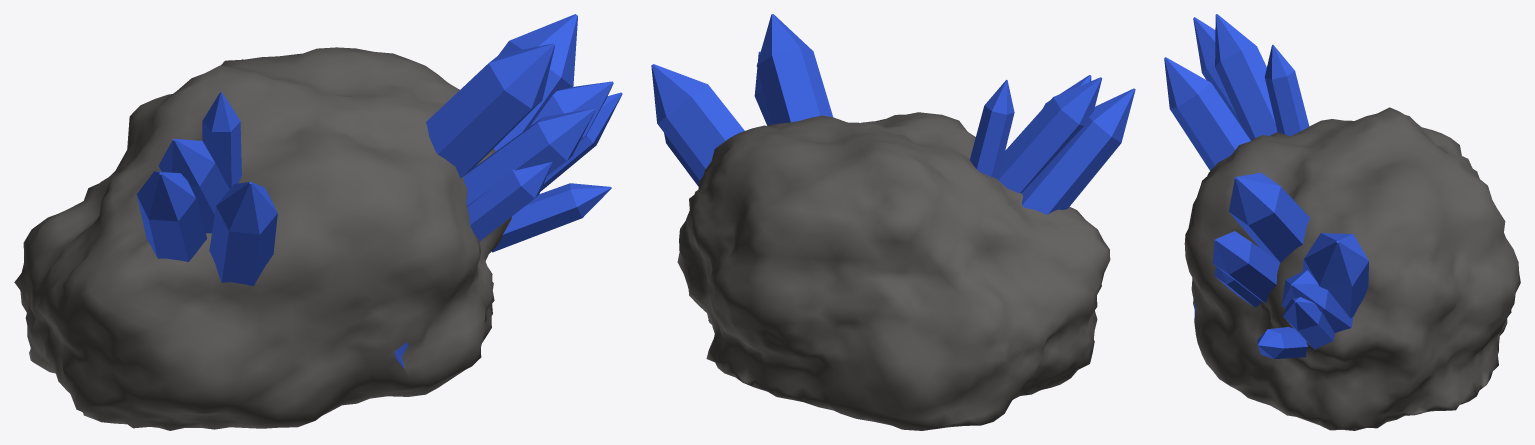
File: sapphire_deep.glb
The picture shows the model from 3 angles, left to right: view 1: azimuth 30°, elevation 25°; view 2: azimuth 150°, elevation 25°; view 3: azimuth 270°, elevation 25°; orthographic projection. The views are drawn at different scales.
Parts seen in each view (by area): view 1: sapphire_deep; view 2: sapphire_deep; view 3: sapphire_deep.
Boxes of the visible parts, x1,y1,x2,y2 form: sapphire_deep: (14, 14, 622, 430); sapphire_deep: (651, 14, 1135, 430); sapphire_deep: (1164, 14, 1520, 430).
Bounding box in the file's own units: 2.4 × 1.35 × 1.65.
